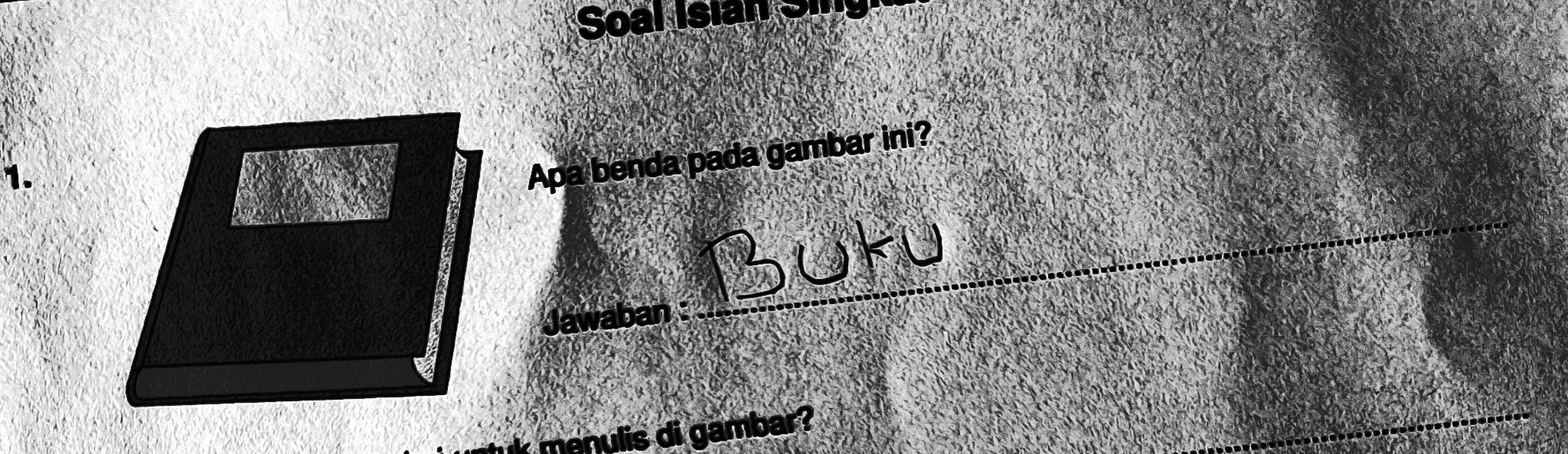jawaban: (692, 206, 957, 315)
